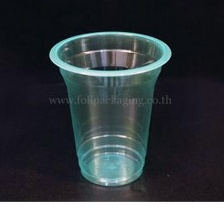glass: (44, 26, 181, 189)
